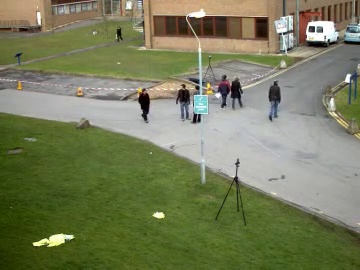person: (175, 83, 193, 120), (134, 86, 150, 122), (135, 87, 150, 122)
